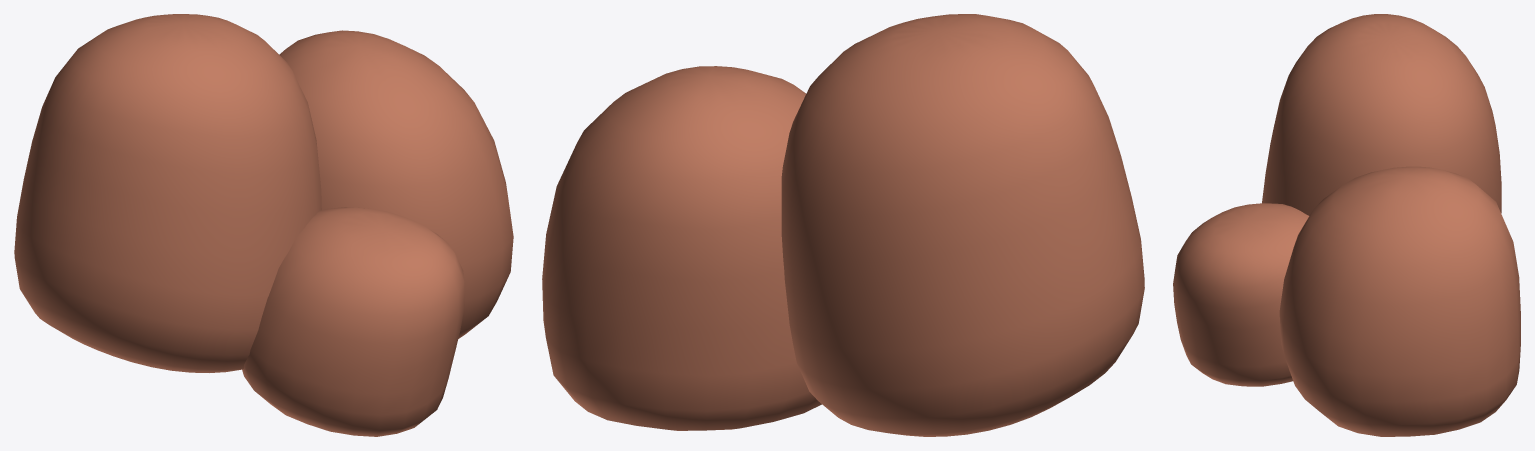
The model's file is Shrub_Top_B_03.fbx.
3 renders of one model, left to right at view 1: azimuth 30°, elevation 25°; view 2: azimuth 150°, elevation 25°; view 3: azimuth 270°, elevation 25°, orthographic. The views are drawn at different scales.
Parts seen in each view (by area): view 1: Shrub_Top_B_03_LOD0; view 2: Shrub_Top_B_03_LOD0; view 3: Shrub_Top_B_03_LOD0.
Boxes of the visible parts, x1=… form: Shrub_Top_B_03_LOD0: x1=14, y1=14, x2=513, y2=436; Shrub_Top_B_03_LOD0: x1=542, y1=14, x2=1144, y2=436; Shrub_Top_B_03_LOD0: x1=1173, y1=14, x2=1520, y2=436.
Size of what is drawn, in the model's own units: 758 by 556 by 590.
